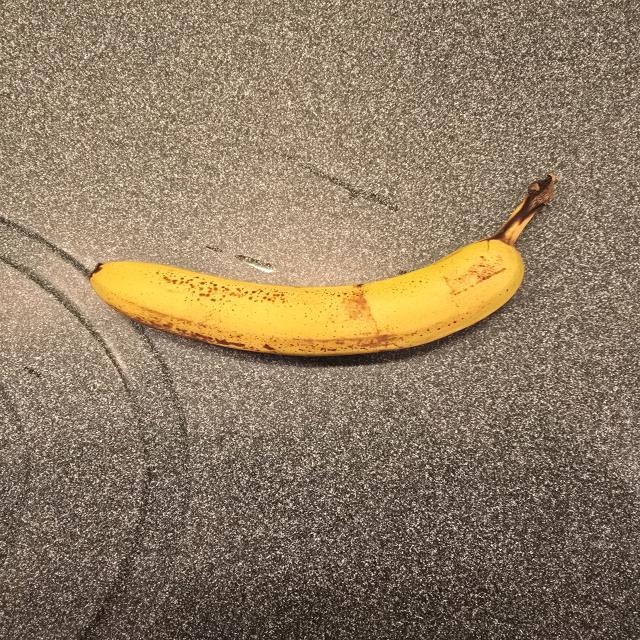Banana: (90, 183, 555, 356)
